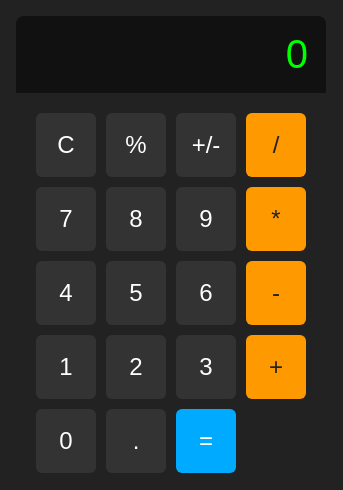
Test: Calculator Component › handles decimal input correctly
The width and height of the screenshot is (343, 490).
Click the button "1".
click(66, 366)  # box [36,334,96,398]
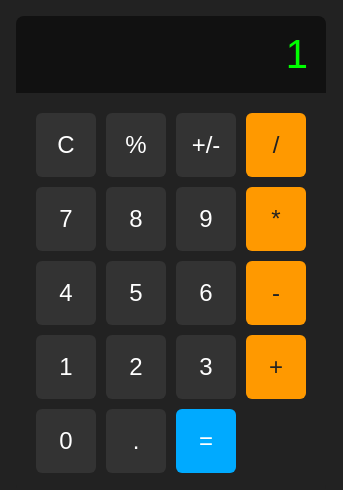
Click the button ".".
click(136, 440)  # box [106,408,166,472]
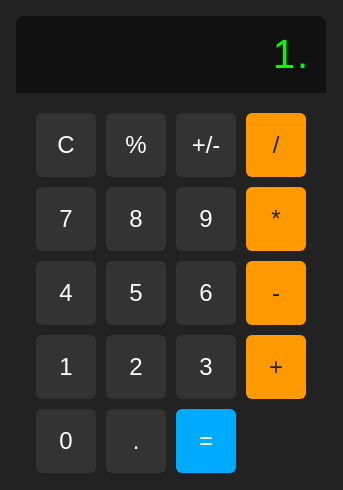
Click the button "2".
click(136, 366)  # box [106,334,166,398]
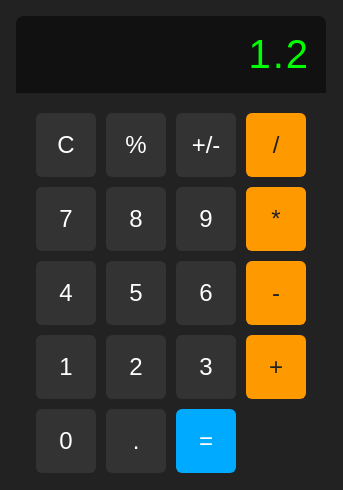
Result: the text with test id "display" reads "1.2" at [248,32,310,76]
